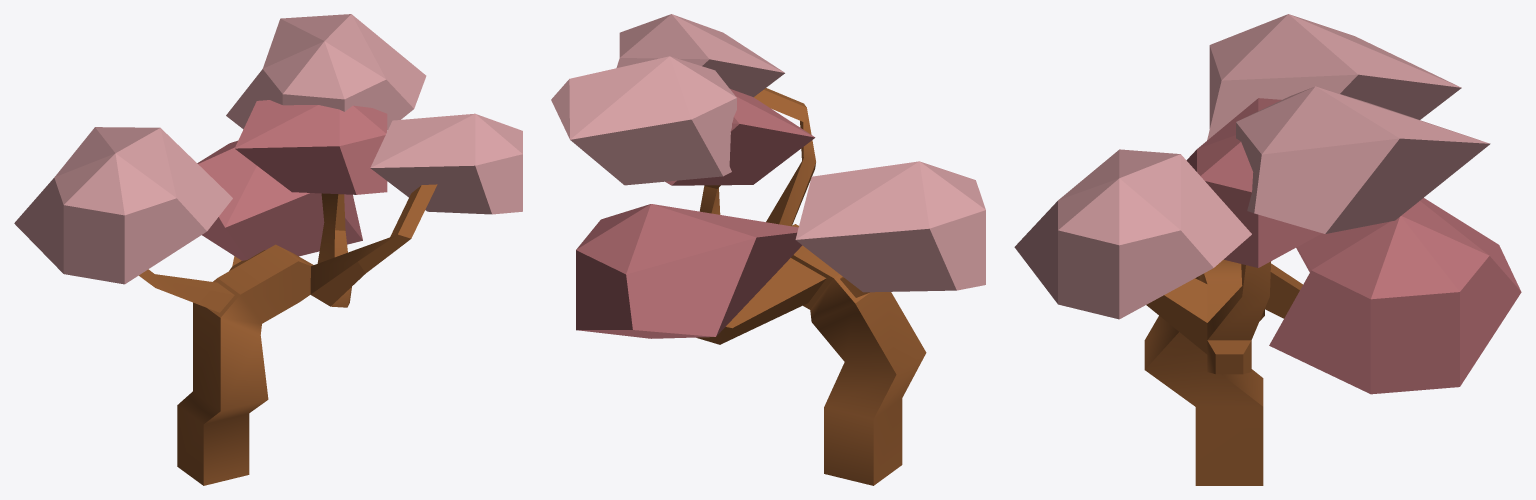
Rendered from Sakuratree_medium_Textured.fbx.
3 renders of one model, left to right at view 1: azimuth 30°, elevation 25°; view 2: azimuth 150°, elevation 25°; view 3: azimuth 270°, elevation 25°, orthographic. The views are drawn at different scales.
Visible parts, largest first — view 1: pSphere6; view 2: pSphere6; view 3: pSphere6.
Boxes of the visible parts, <box> form: pSphere6: <box>14,14,522,485</box>; pSphere6: <box>551,14,985,485</box>; pSphere6: <box>1014,14,1521,485</box>.
Size of the model in its own units: 500 by 431 by 416.
